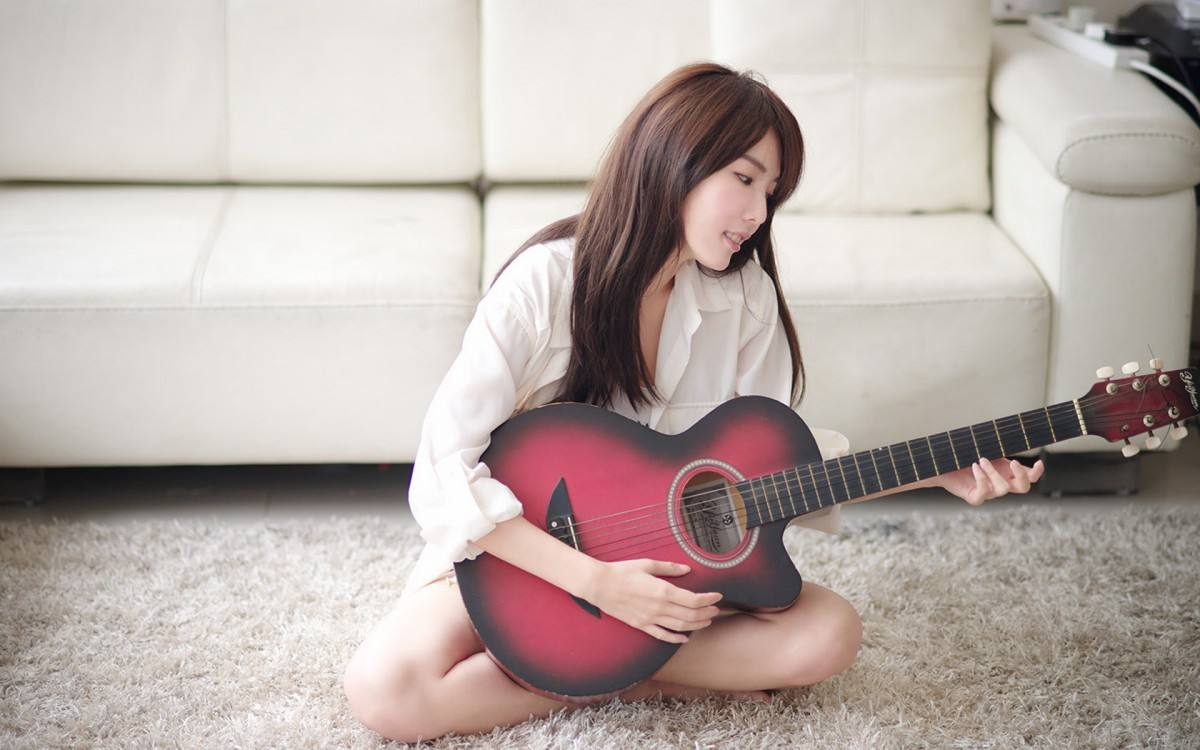person: (403, 64, 892, 725)
